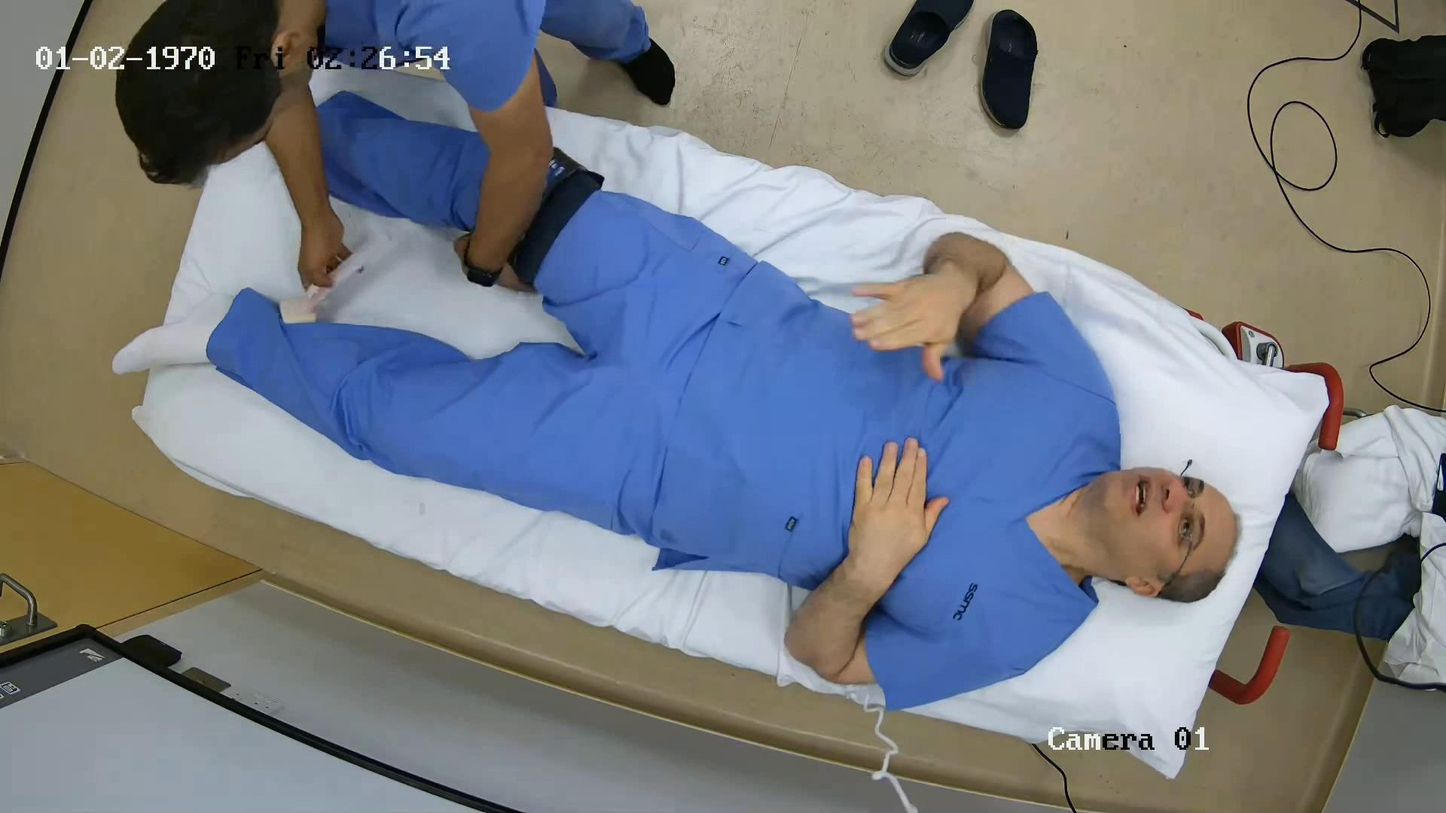bed: (133, 62, 1343, 783)
patient: (206, 92, 1240, 708)
prepstick: (279, 242, 370, 323)
